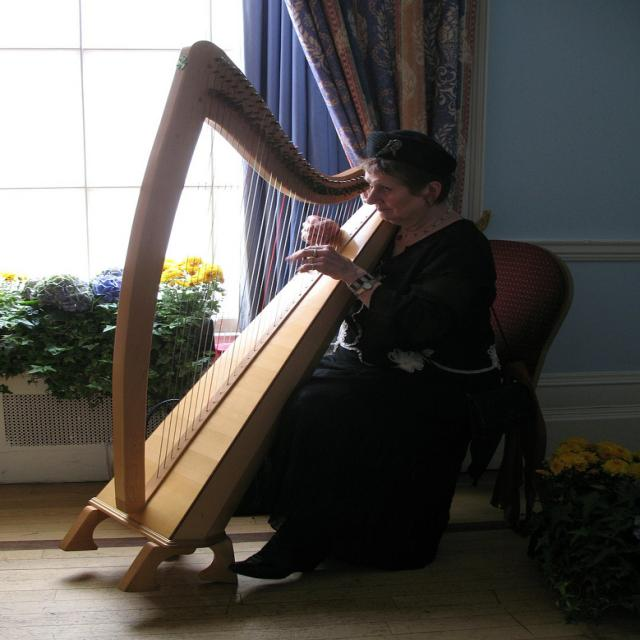harp: (66, 38, 408, 589)
